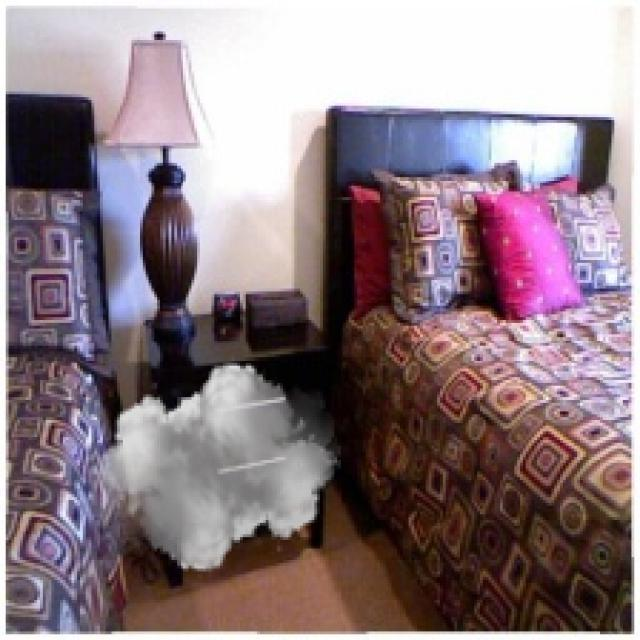Smoke: (94, 354, 340, 580)
